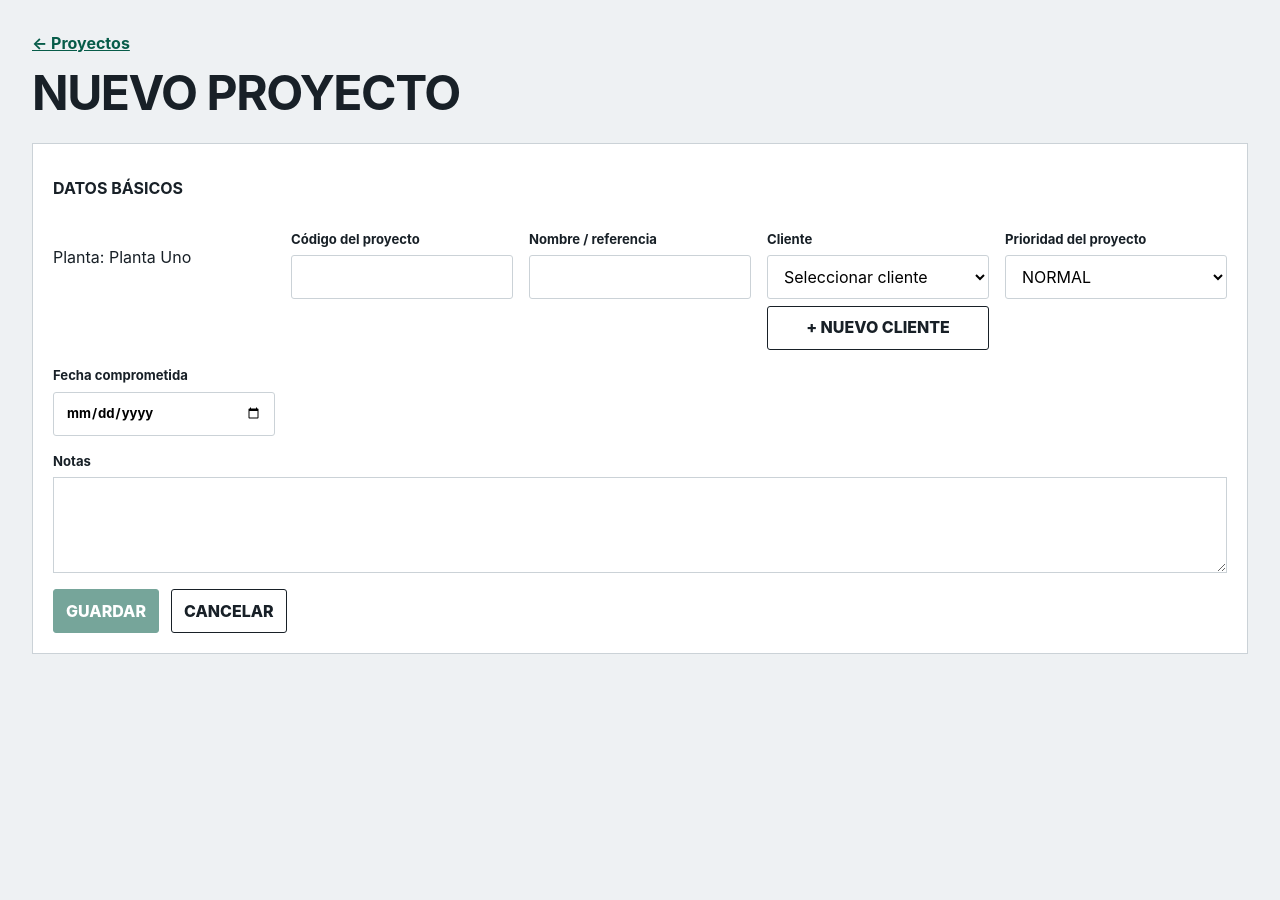
alta exitosa navega a detalle
In the field labelled "Código del proyecto": coordinates (402, 277) [291,255,513,299], type "P-NEW"
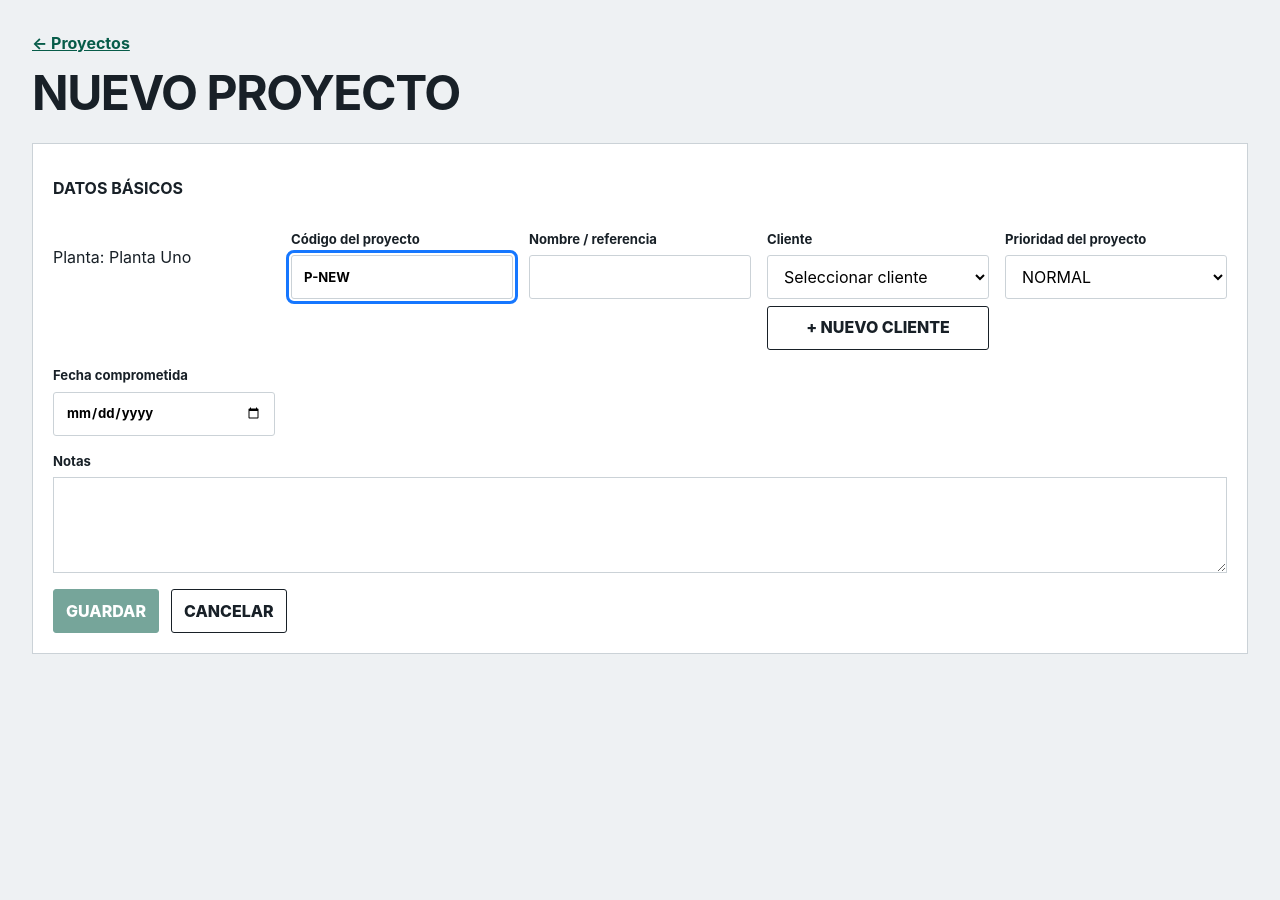
In the field labelled "Nombre / referencia": coordinates (640, 277) [529,255,751,299], type "Proyecto Nuevo"
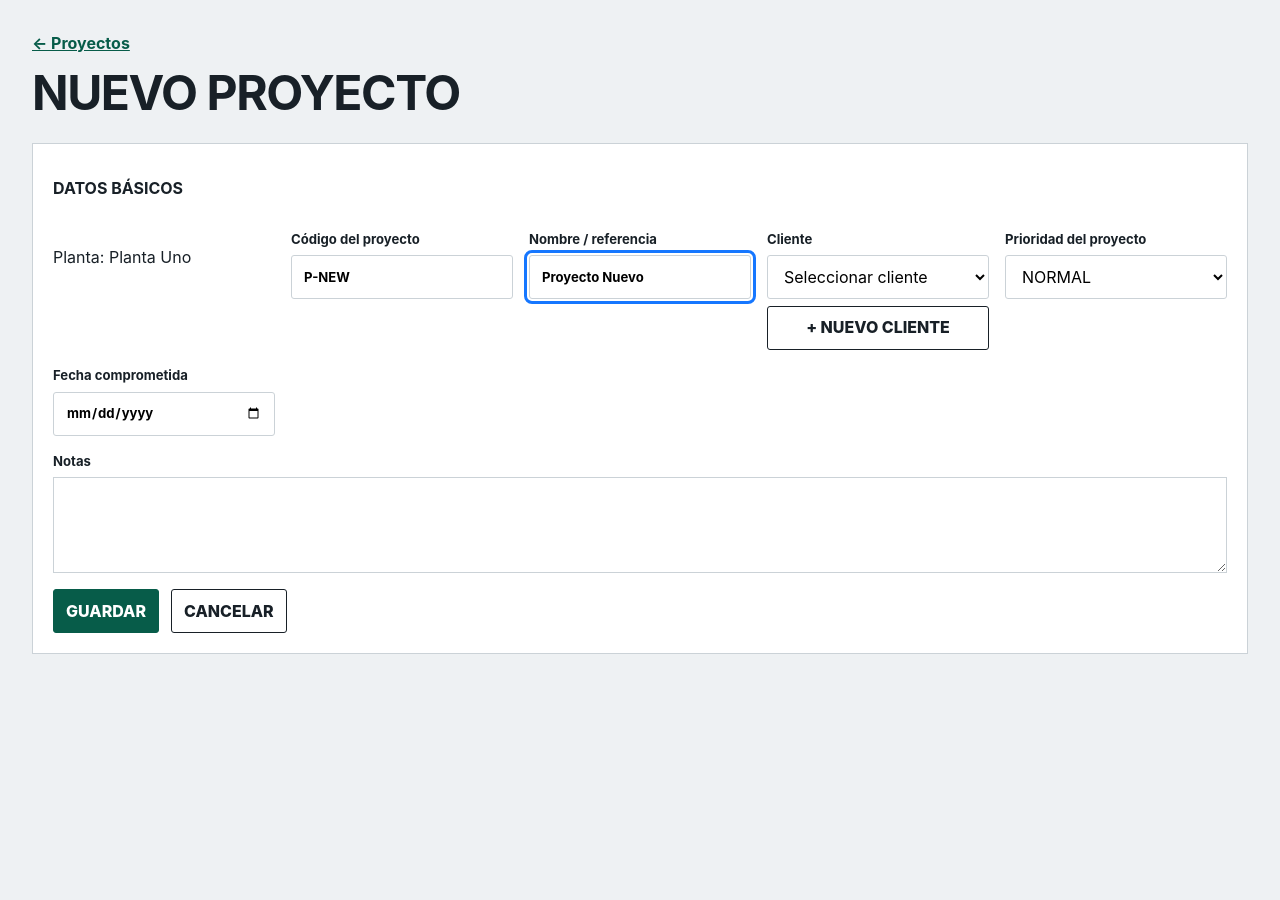
Select "Cliente Uno" in the dropdown labelled "Cliente": coordinates (878, 277) [767,255,989,299]
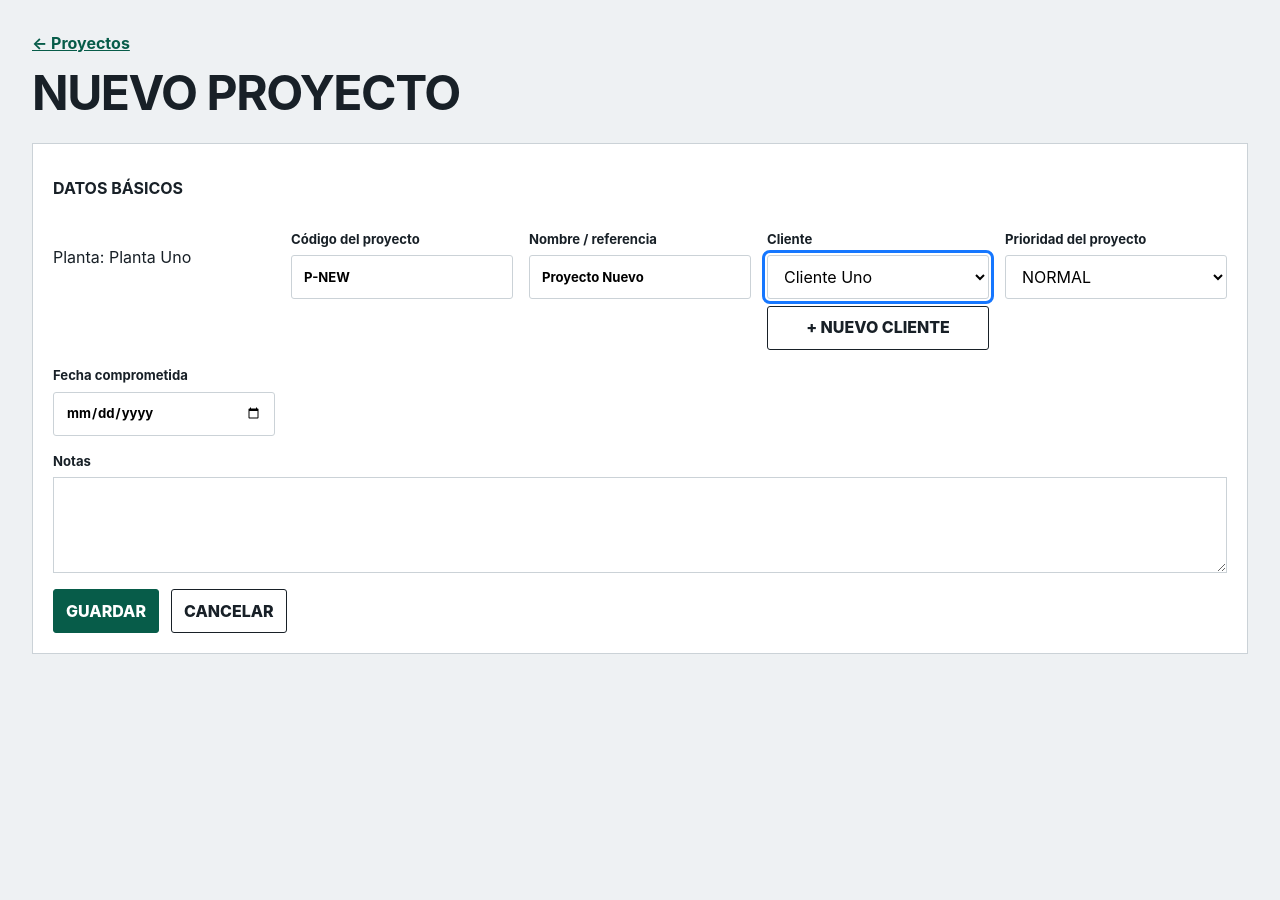
In the date field labelled "Fecha comprometida": coordinates (164, 414) [53,392,275,436], type "2026-12-20"
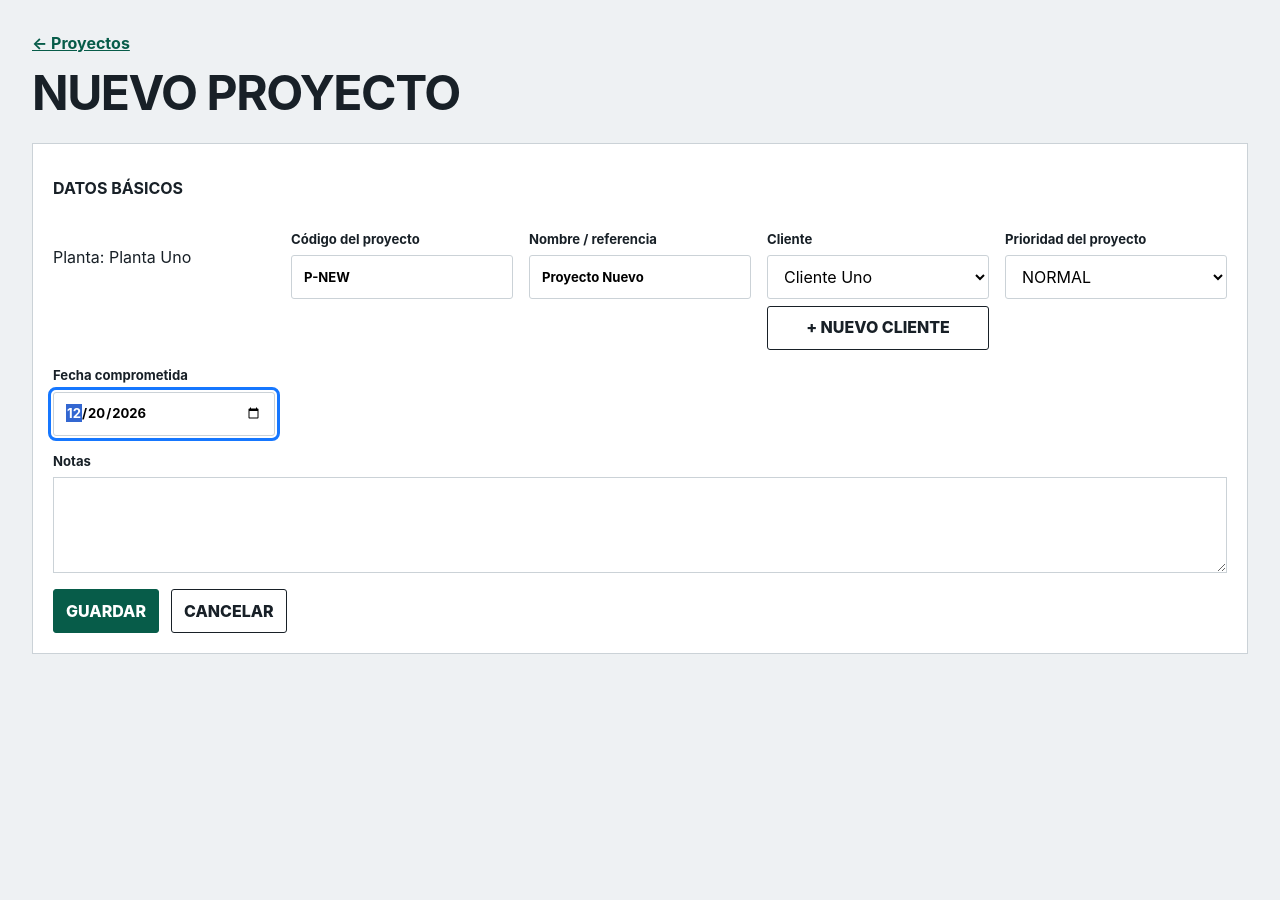
Click the button "GUARDAR": coordinates (106, 611) [53,589,159,633]
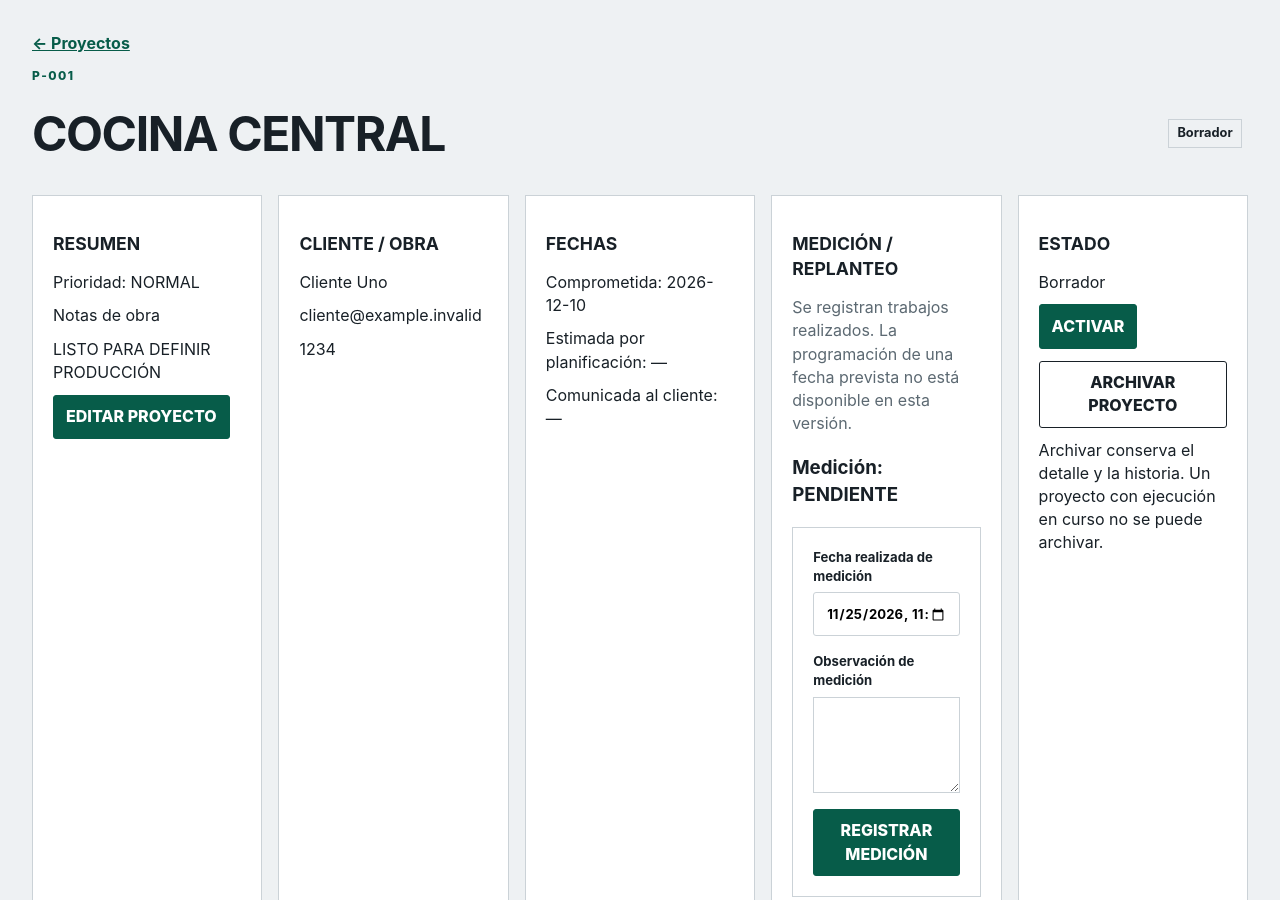
expect the heading "Resumen" is shown: met, box [53,232,140,254]
